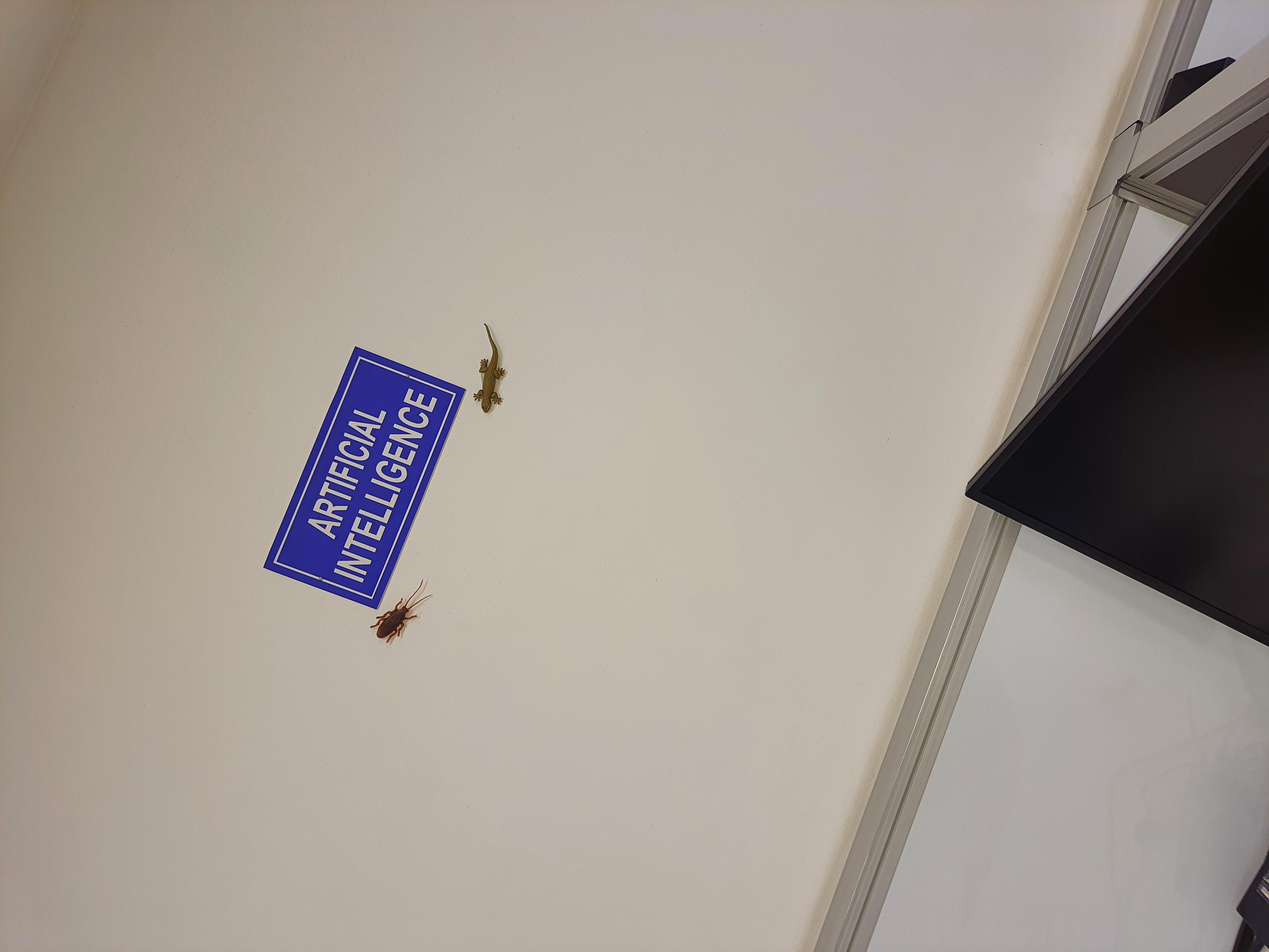cockroach: (378, 260, 521, 339)
lizard: (703, 342, 858, 399)
